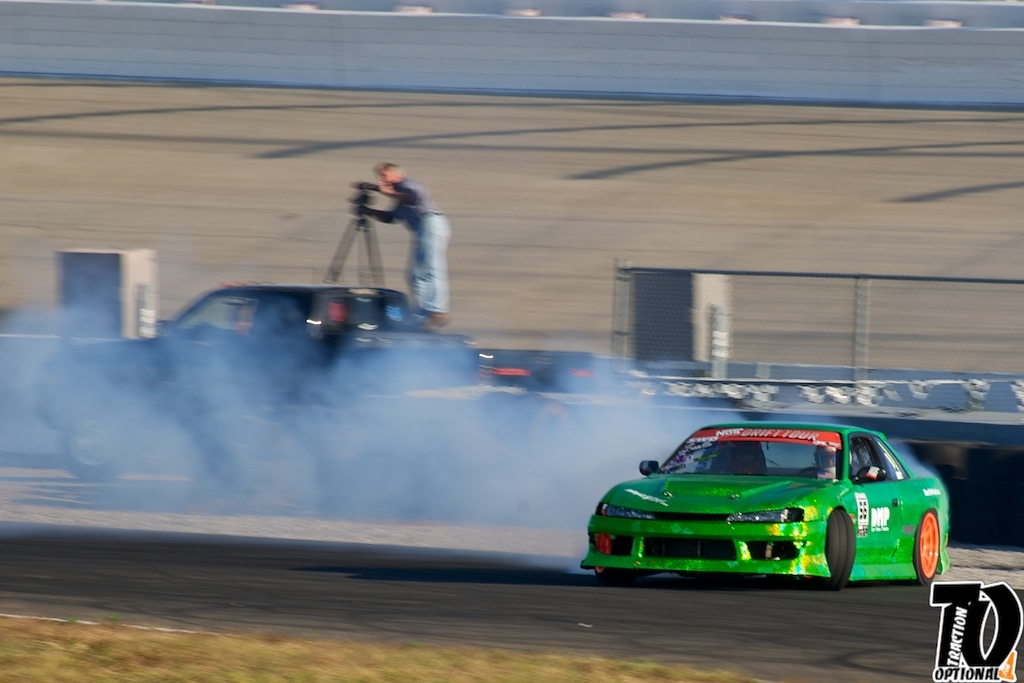Car: (579, 418, 945, 590)
